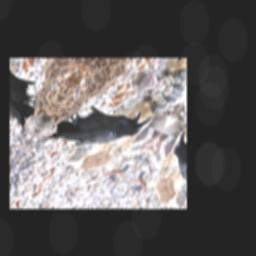Crow: (40, 86, 152, 170)
